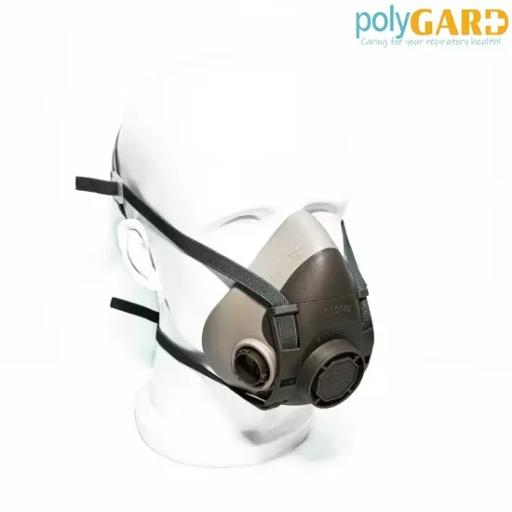mask: (184, 198, 404, 424)
